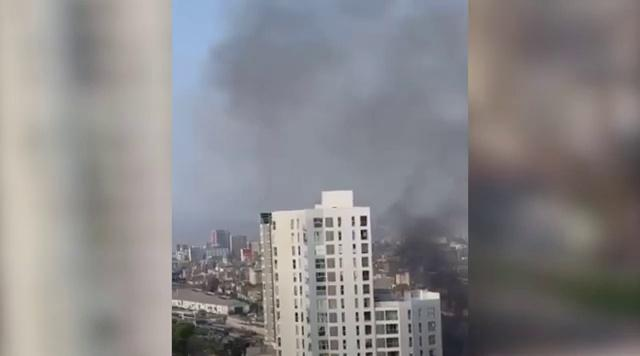smoke: (234, 35, 321, 109)
